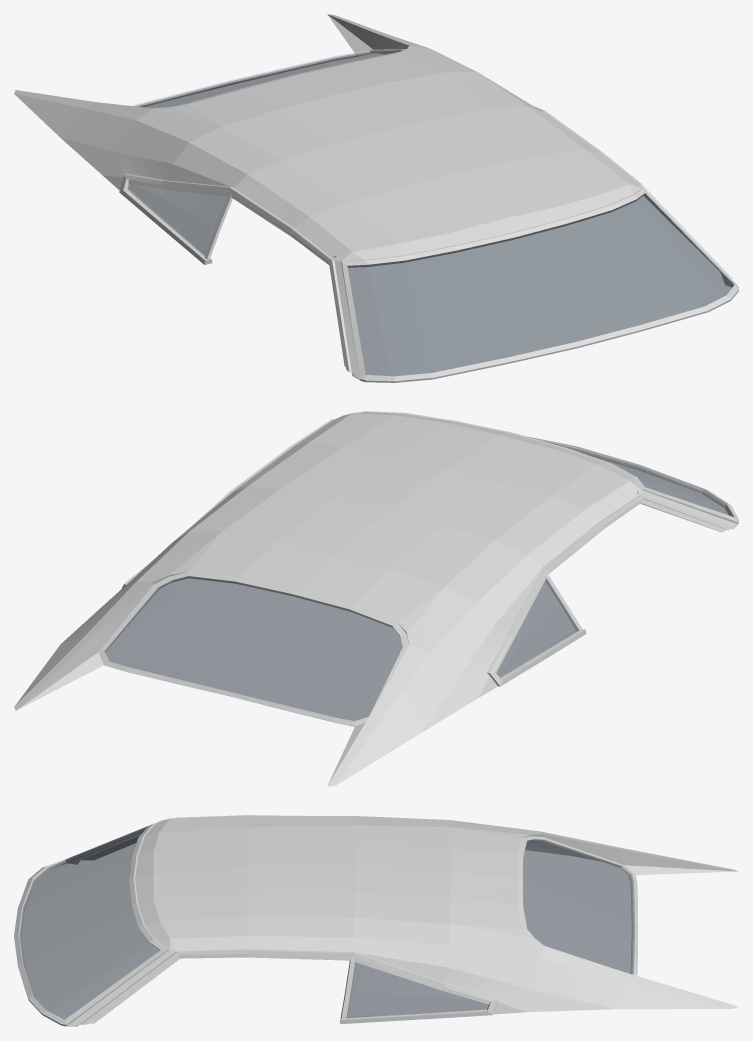
The model's file is Muscle_01_Roof_01.glb.
3 views of the same model, one above another, from view 1: azimuth 30°, elevation 25°; view 2: azimuth 150°, elevation 25°; view 3: azimuth 270°, elevation 25° (orthographic). The views are drawn at different scales.
Parts seen in each view (by area): view 1: SM_Veh_Muscle_01_Roof_01, SM_Veh_Muscle_01_Roof_01_Glass; view 2: SM_Veh_Muscle_01_Roof_01, SM_Veh_Muscle_01_Roof_01_Glass; view 3: SM_Veh_Muscle_01_Roof_01, SM_Veh_Muscle_01_Roof_01_Glass.
Part boxes in pixels (bbox=[...]): SM_Veh_Muscle_01_Roof_01: bbox=[14, 14, 738, 382]; SM_Veh_Muscle_01_Roof_01_Glass: bbox=[128, 51, 732, 376]; SM_Veh_Muscle_01_Roof_01: bbox=[14, 411, 738, 786]; SM_Veh_Muscle_01_Roof_01_Glass: bbox=[105, 442, 730, 720]; SM_Veh_Muscle_01_Roof_01: bbox=[14, 815, 738, 1026]; SM_Veh_Muscle_01_Roof_01_Glass: bbox=[20, 827, 633, 1019].
Bounding box in the file's own units: 1.79 × 0.3823 × 3.28.
